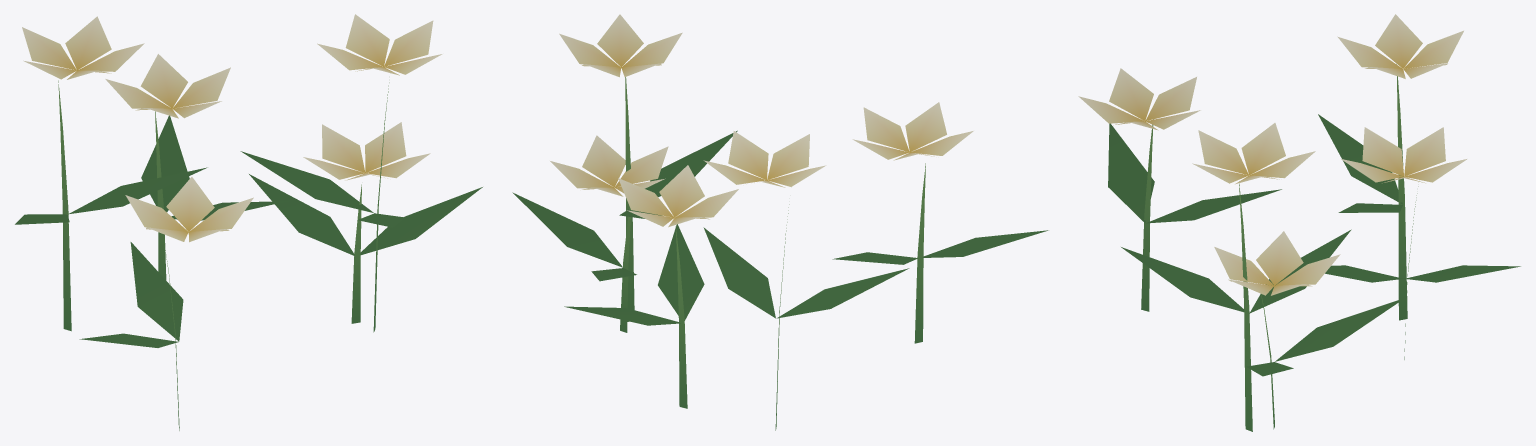
The model's file is flowers_ivory.glb.
The picture shows the model from 3 angles, left to right: view 1: azimuth 30°, elevation 25°; view 2: azimuth 150°, elevation 25°; view 3: azimuth 270°, elevation 25°; orthographic projection. The views are drawn at different scales.
Visible parts, largest first — view 1: Flowers; view 2: Flowers; view 3: Flowers.
Part boxes in pixels (x1,y1,x2,y2): Flowers: [15, 14, 482, 430]; Flowers: [512, 14, 1048, 430]; Flowers: [1078, 14, 1520, 431].
Size of the model in its own units: 1.03 by 0.5874 by 0.8247.
